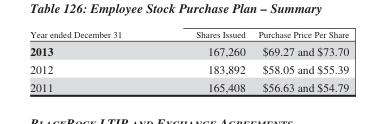table: (29, 28, 348, 93)
table column: (29, 28, 158, 93), (251, 28, 348, 93), (158, 28, 251, 93)
table column header: (29, 28, 348, 41)
table row: (29, 41, 348, 59), (29, 59, 348, 77), (29, 77, 348, 93), (29, 28, 348, 41)
